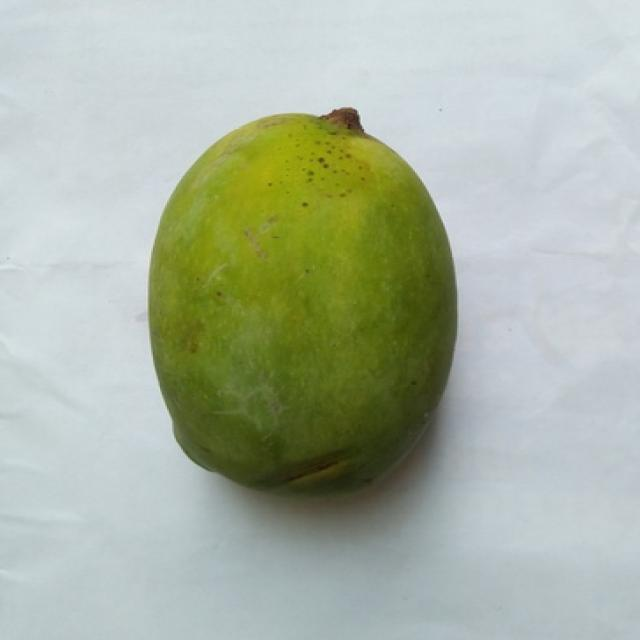Mango: (148, 109, 455, 491)
